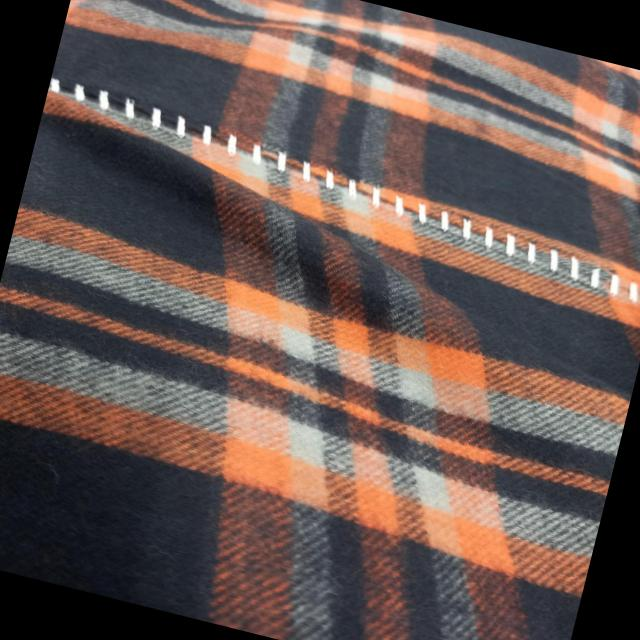gray stitch: (34, 65, 640, 315)
